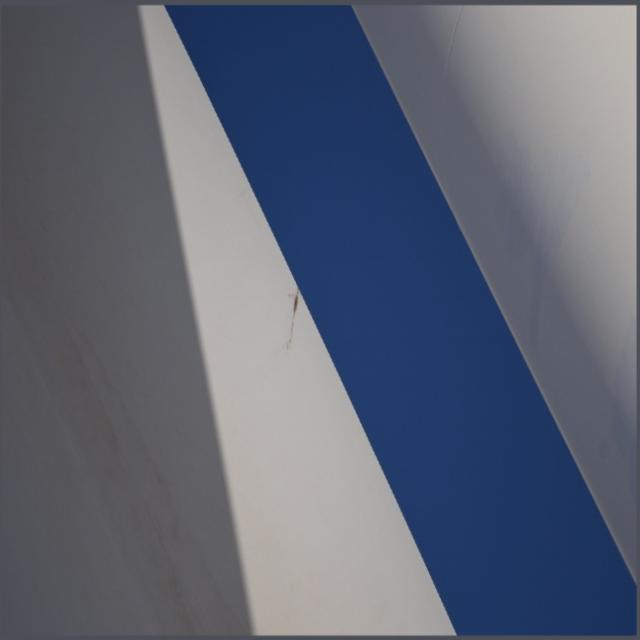Crack: (283, 286, 303, 357)
